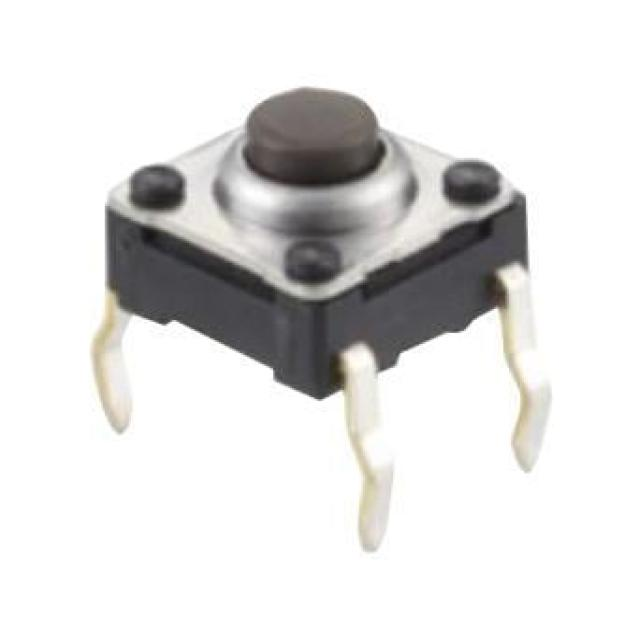Push button: (92, 88, 554, 554)
